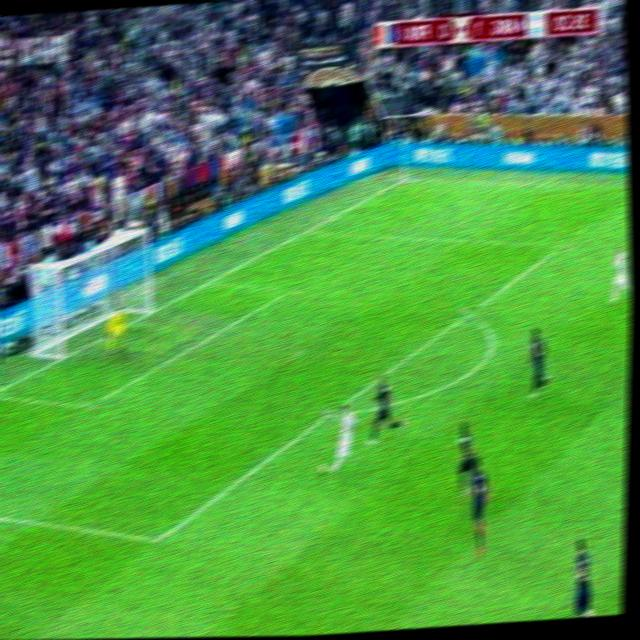bigarea_bottom_inner: (149, 525, 173, 553)
bigarea_top_inner: (552, 231, 575, 257)
bigarea_top_outter: (296, 220, 318, 240)
bottom_arc_area_intersection: (321, 402, 340, 425)
corner: (395, 170, 416, 187)
smallarea_bottom_inner: (77, 390, 103, 421)
smallarea_bottom_outter: (0, 381, 2, 406)
smallarea_top_inner: (282, 279, 302, 300)
smallarea_top_outter: (200, 272, 219, 292)
top_arc_area_intersection: (458, 301, 480, 325)
